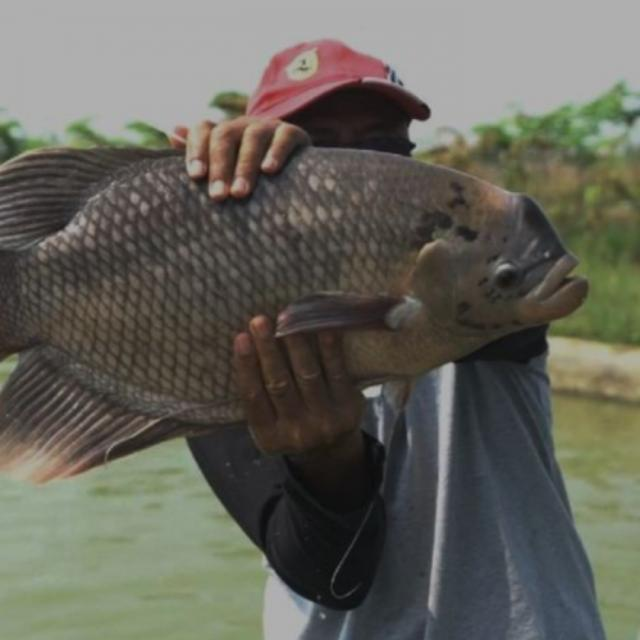Mulut: (488, 221, 604, 341)
Sirip Anal: (0, 330, 214, 508)
Sirip Dada: (261, 253, 443, 369)
Sirip Punggung: (0, 131, 204, 257)
